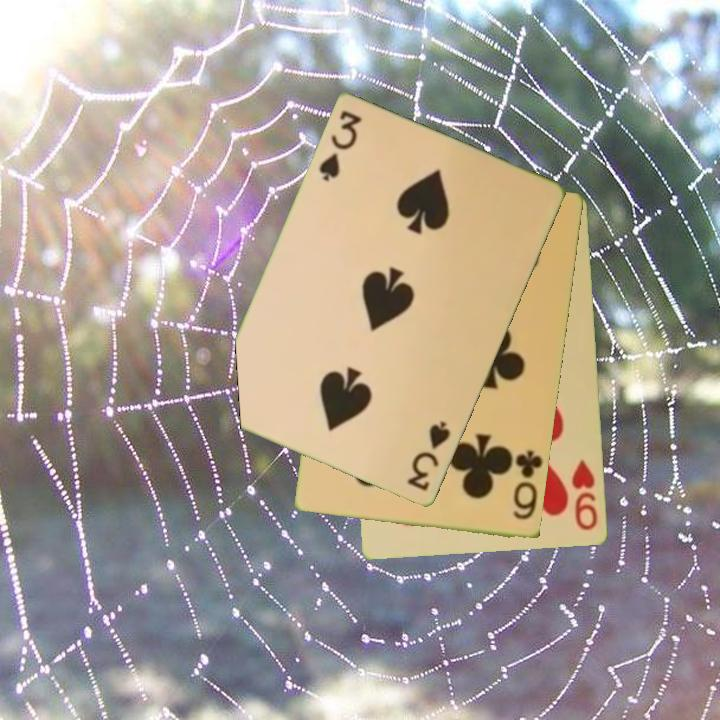3s: (315, 107, 366, 185), (404, 418, 454, 495)
6c: (510, 447, 546, 524)
9h: (568, 456, 601, 533)
